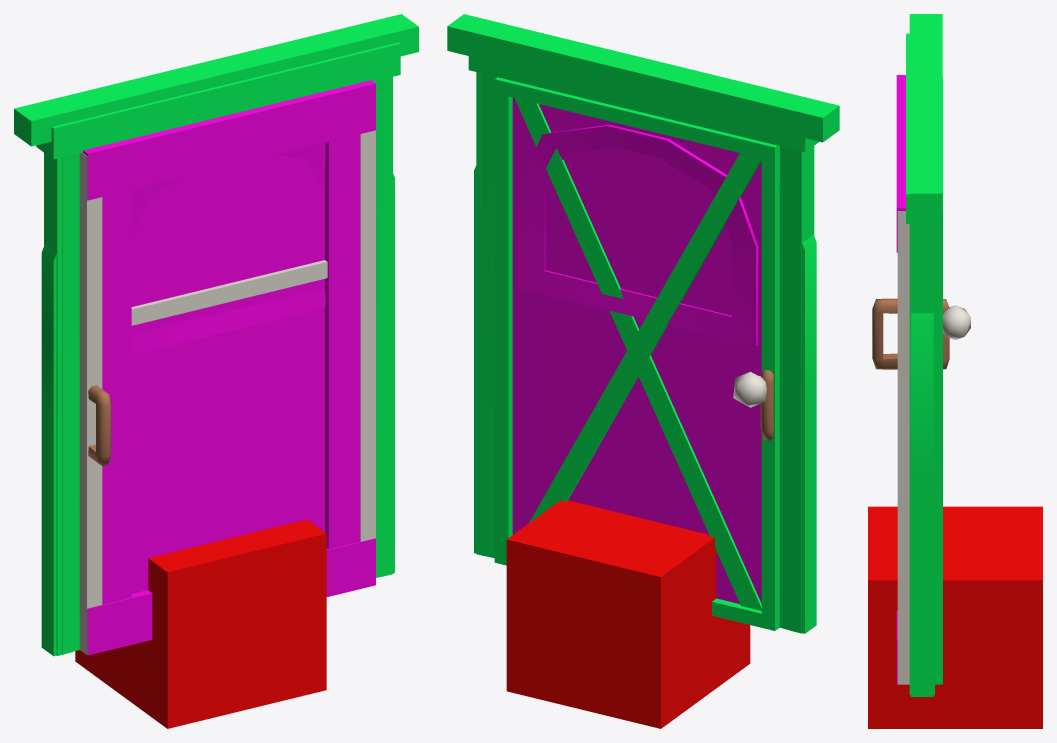
The model's file is House Door_Prefab.fbx.
The picture shows the model from 3 angles, left to right: view 1: azimuth 30°, elevation 25°; view 2: azimuth 150°, elevation 25°; view 3: azimuth 270°, elevation 25°; orthographic projection. The views are drawn at different scales.
Visible parts, largest first — view 1: Door, Entry_Exit_Zone, BarnDoorFrame, GlassDoor, Door_Frame, ArchDoorFrame, ArchDoor; view 2: BarnDoor, Entry_Exit_Zone, BarnDoorFrame, ArchDoor, Door_Frame, ArchDoorFrame, GlassDoor; view 3: Entry_Exit_Zone, ArchDoorFrame, GlassDoor, BarnDoorFrame, Door_Frame, BarnDoor, Door, ArchDoor.
Part boxes in pixels (x1=…): Door: x1=82, y1=80, x2=375, y2=655; Entry_Exit_Zone: x1=75, y1=519, x2=326, y2=728; BarnDoorFrame: x1=14, y1=14, x2=418, y2=654; GlassDoor: x1=79, y1=130, x2=375, y2=654; Door_Frame: x1=36, y1=42, x2=400, y2=655; ArchDoorFrame: x1=41, y1=174, x2=394, y2=656; ArchDoor: x1=131, y1=142, x2=325, y2=354; BarnDoor: x1=494, y1=77, x2=779, y2=630; Entry_Exit_Zone: x1=506, y1=500, x2=750, y2=728; BarnDoorFrame: x1=447, y1=14, x2=839, y2=632; ArchDoor: x1=518, y1=124, x2=766, y2=407; Door_Frame: x1=468, y1=56, x2=819, y2=633; ArchDoorFrame: x1=474, y1=166, x2=816, y2=633; GlassDoor: x1=760, y1=369, x2=773, y2=441; Entry_Exit_Zone: x1=868, y1=506, x2=1042, y2=728; ArchDoorFrame: x1=911, y1=313, x2=933, y2=696; GlassDoor: x1=872, y1=211, x2=949, y2=684; BarnDoorFrame: x1=909, y1=14, x2=942, y2=217; Door_Frame: x1=906, y1=33, x2=938, y2=695; BarnDoor: x1=935, y1=77, x2=942, y2=684; Door: x1=896, y1=75, x2=905, y2=684; ArchDoor: x1=943, y1=305, x2=970, y2=340.
Bounding box in the file's own units: 2.59 × 3.96 × 1.07.
